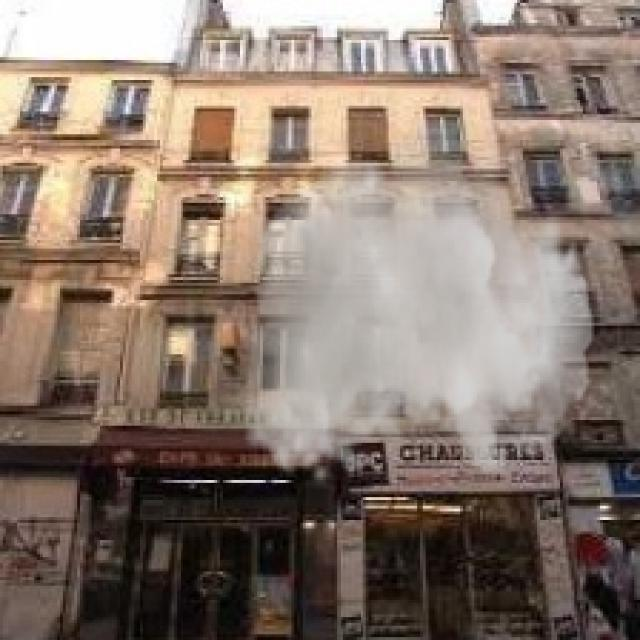smoke: (240, 109, 594, 488)
